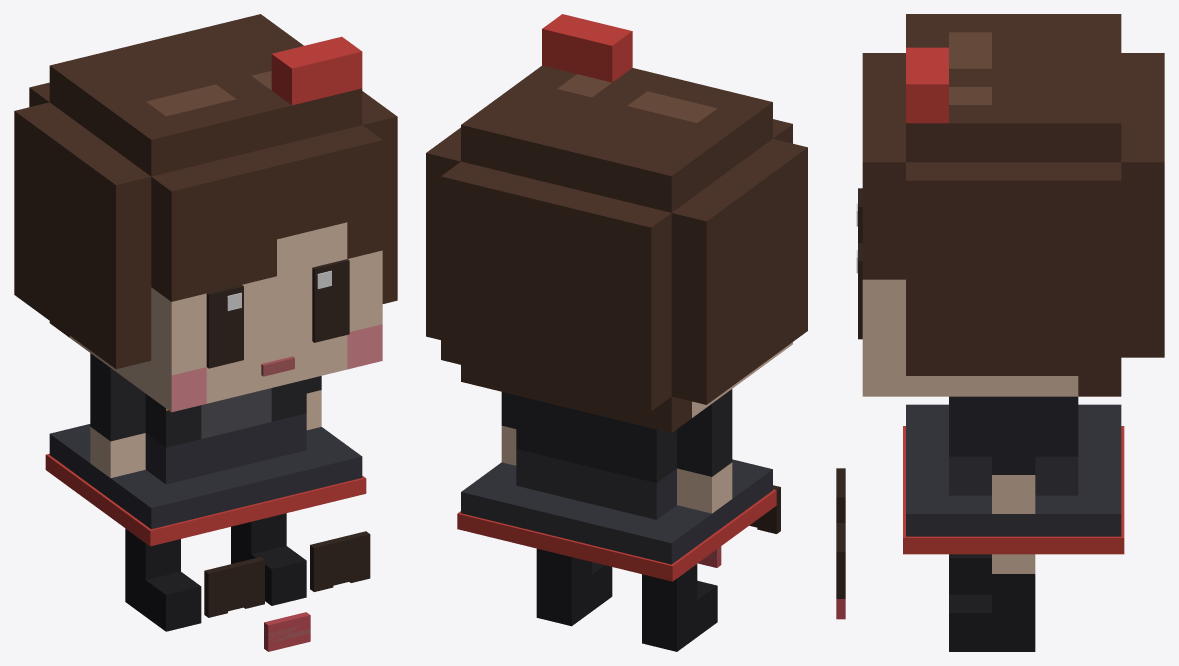
Rendered from doubao.glb.
The picture shows the model from 3 angles, left to right: view 1: azimuth 30°, elevation 25°; view 2: azimuth 150°, elevation 25°; view 3: azimuth 270°, elevation 25°; orthographic projection. The views are drawn at different scales.
Visible parts, largest first — view 1: head, body, face_open, face_happy, armB, footB, footA, face_tight, armA; view 2: head, body, armB, footB, footA, armA, face_happy; view 3: head, body, footA, armA, footB, face_happy, face_open.
Part boxes in pixels (x1=…): head: x1=14, y1=14, x2=397, y2=412; body: x1=45, y1=379, x2=366, y2=546; face_open: x1=206, y1=259, x2=349, y2=376; face_happy: x1=204, y1=531, x2=370, y2=651; armB: x1=90, y1=353, x2=145, y2=478; footB: x1=125, y1=528, x2=201, y2=631; footA: x1=231, y1=513, x2=306, y2=605; face_tight: x1=204, y1=560, x2=367, y2=643; armA: x1=306, y1=376, x2=321, y2=430; head: x1=426, y1=14, x2=807, y2=432; body: x1=457, y1=395, x2=776, y2=581; armB: x1=677, y1=389, x2=732, y2=513; footB: x1=642, y1=564, x2=717, y2=651; footA: x1=536, y1=548, x2=612, y2=626; armA: x1=501, y1=392, x2=516, y2=465; face_happy: x1=698, y1=485, x2=780, y2=567; head: x1=862, y1=14, x2=1164, y2=396; body: x1=903, y1=396, x2=1124, y2=554; footA: x1=949, y1=554, x2=1035, y2=651; armA: x1=992, y1=396, x2=1035, y2=513; footB: x1=949, y1=554, x2=991, y2=594; face_happy: x1=836, y1=468, x2=845, y2=619; face_open: x1=856, y1=188, x2=862, y2=339.
Bounding box in the file's own units: 0.56 × 1.05 × 0.5327.
